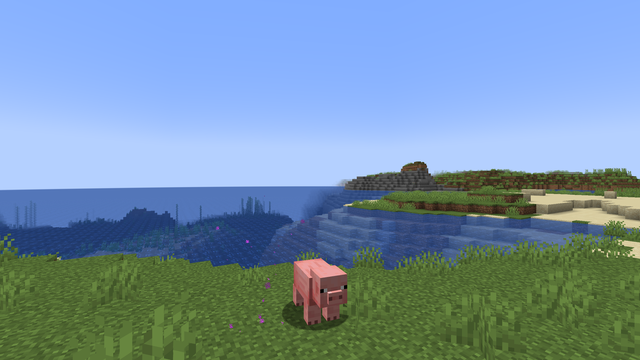cochons: (286, 256, 347, 327)
